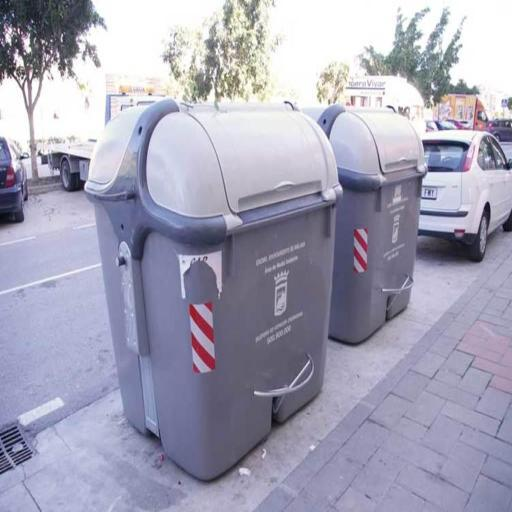trash-can: (86, 66, 337, 492)
